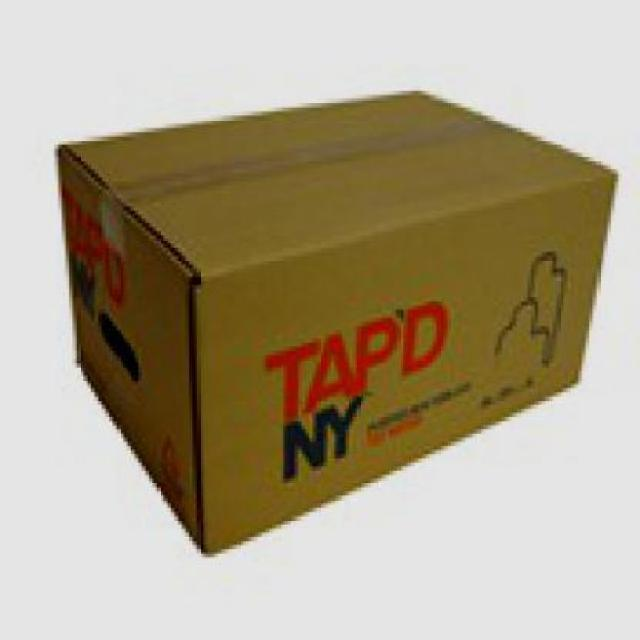box: (43, 82, 622, 562)
